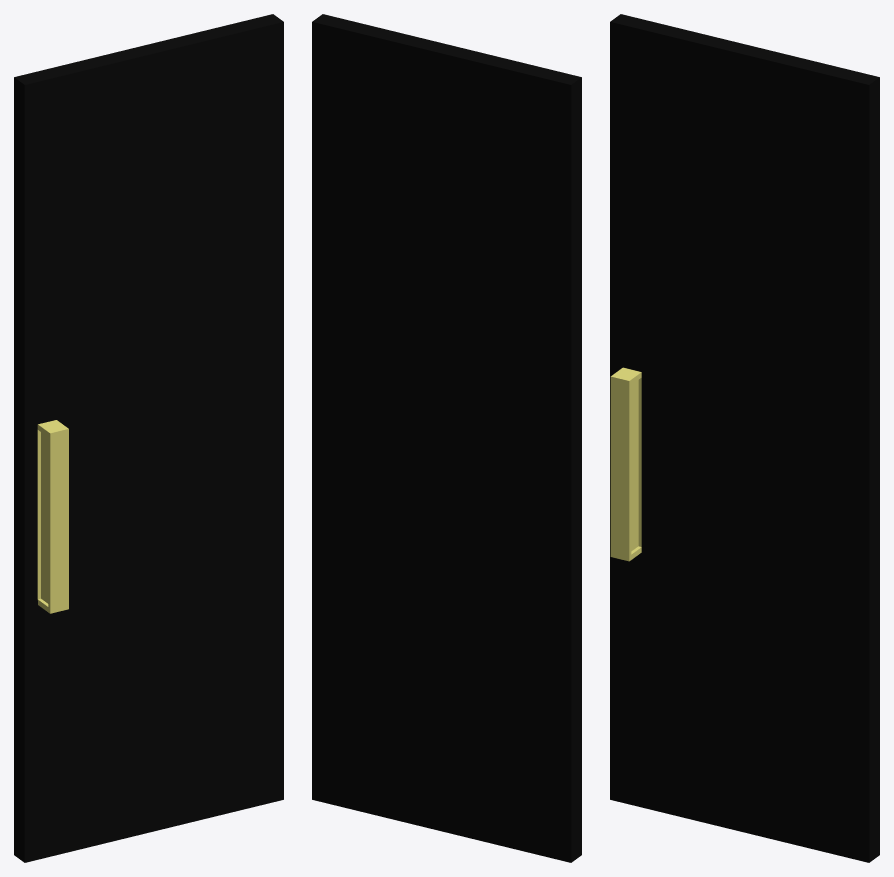
Rendered from Itr_Wardrobe3_Door_Right_05.FBX.
3 renders of one model, left to right at view 1: azimuth 30°, elevation 25°; view 2: azimuth 150°, elevation 25°; view 3: azimuth 330°, elevation 25°, orthographic.
Parts seen in each view (by area): view 1: Itr_Wardrobe3_Door_Right_05; view 2: Itr_Wardrobe3_Door_Right_05; view 3: Itr_Wardrobe3_Door_Right_05.
Boxes of the visible parts, bbox=[...] form: Itr_Wardrobe3_Door_Right_05: bbox=[14, 14, 283, 862]; Itr_Wardrobe3_Door_Right_05: bbox=[312, 14, 581, 862]; Itr_Wardrobe3_Door_Right_05: bbox=[610, 14, 879, 862].
Bounding box in the file's own units: 20.07 × 57.59 × 3.1.
